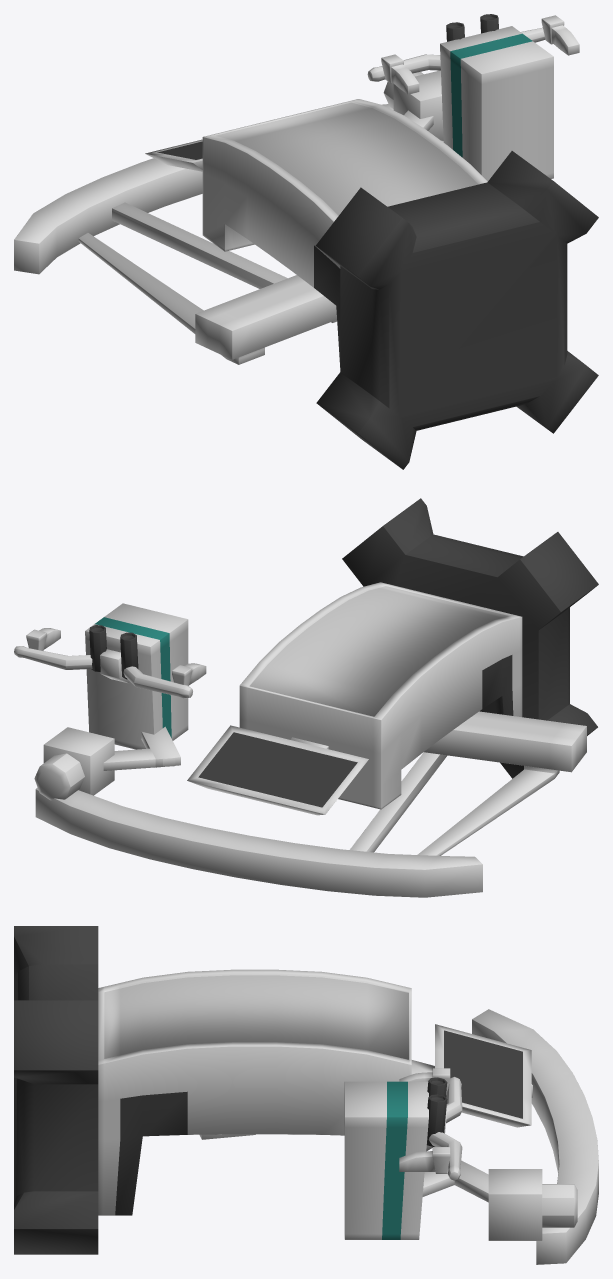
3 views of the same model, one above another, from view 1: azimuth 30°, elevation 25°; view 2: azimuth 150°, elevation 25°; view 3: azimuth 270°, elevation 25° (orthographic). The views are drawn at different scales.
Parts seen in each view (by area): view 1: Cube.005; view 2: Cube.005; view 3: Cube.005.
Part boxes in pixels (<box>): Cube.005: <box>14,14,598,469</box>; Cube.005: <box>14,498,598,897</box>; Cube.005: <box>14,926,598,1264</box>.
Size of the model in its own units: 203 by 92.26 by 192.
